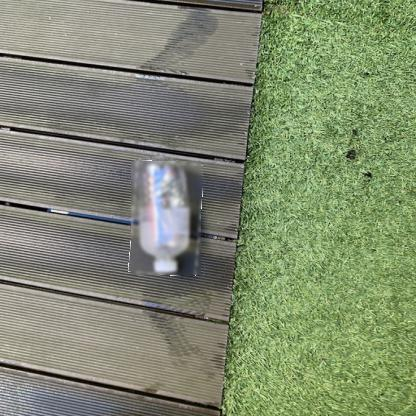plastic-bottles: (132, 162, 203, 277), (138, 163, 145, 172)
